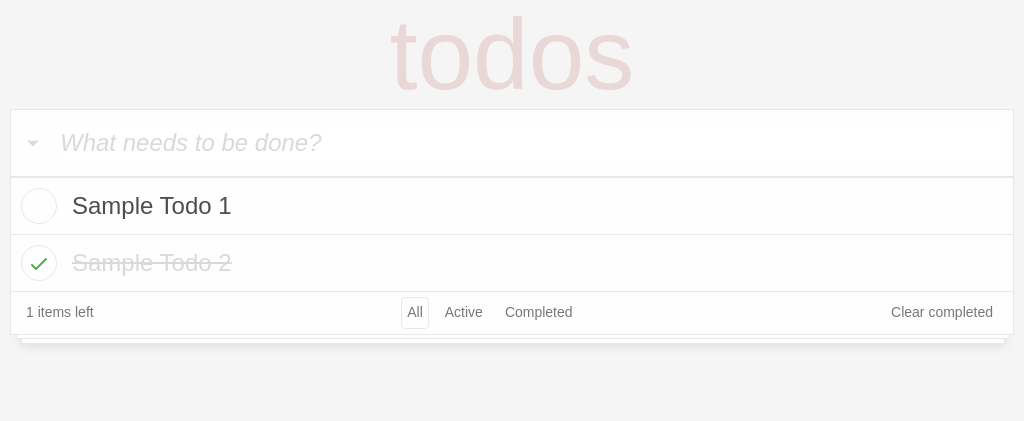
Test: TodosView Component › Add new todo
Type "Test Todo" into the field with test id "field" at (532, 143), box [60,125,1003,161]
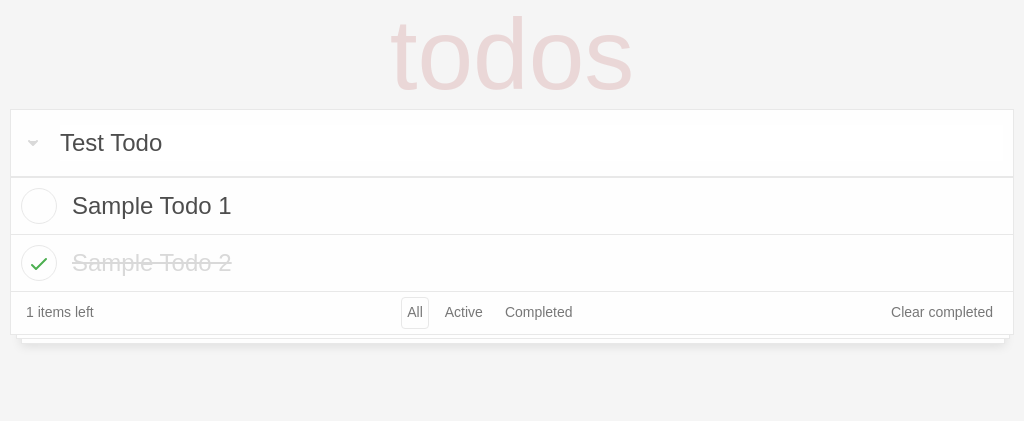
Press Enter in the field with test id "field", box [60,125,1003,161]
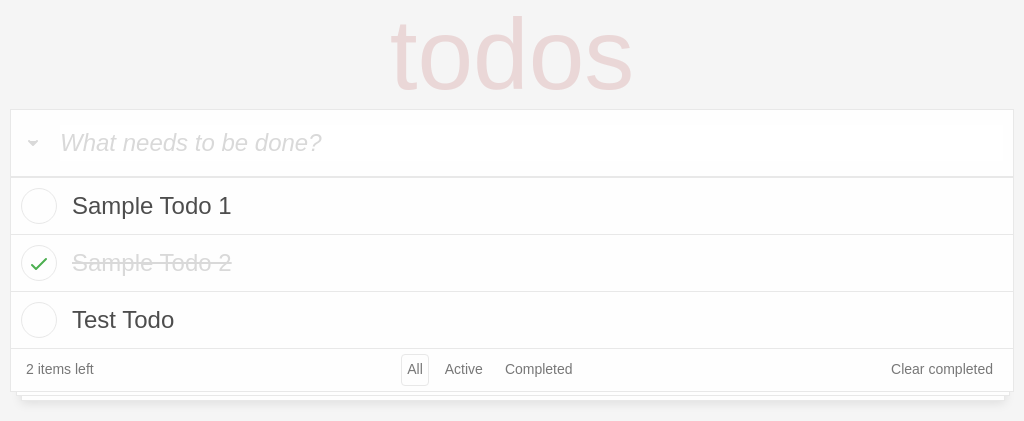
Expected: the checkbox "Test Todo" is shown, [21,302,174,338]
